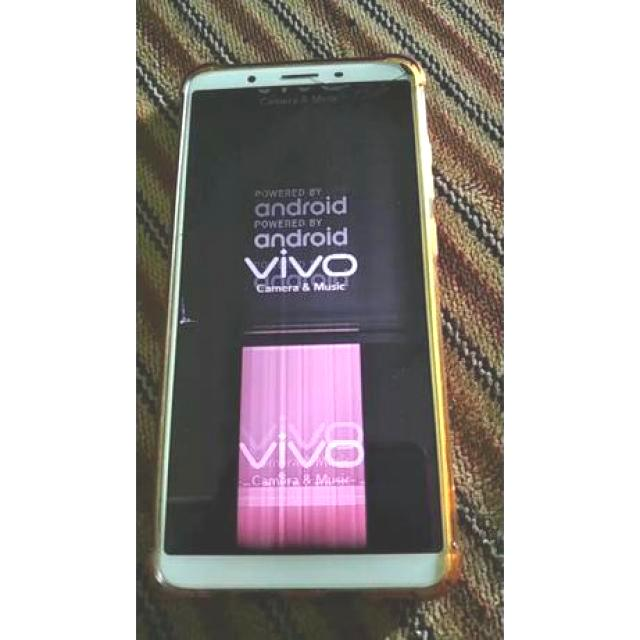phone: (181, 74, 455, 581)
